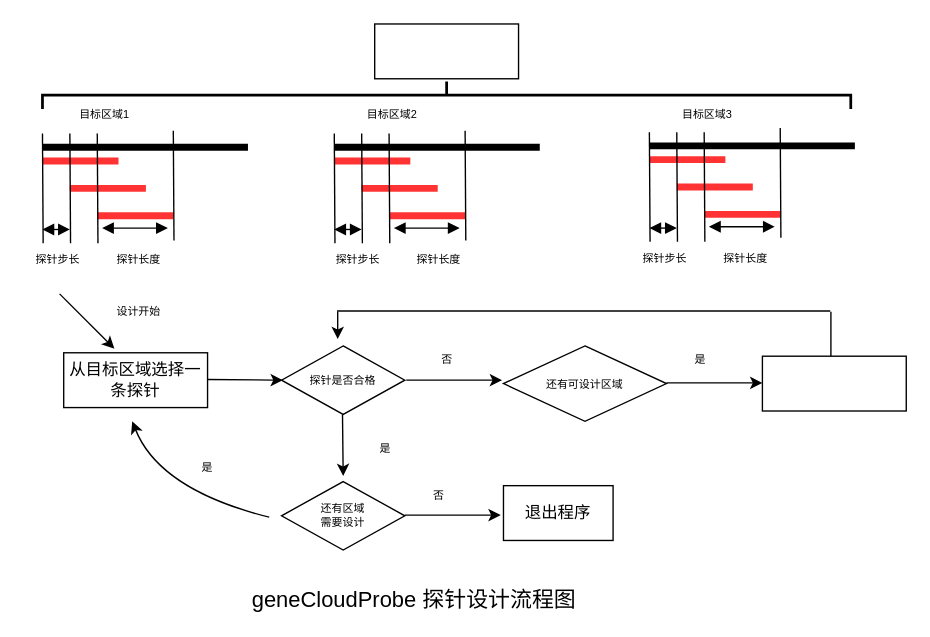
This 930x637 diagram has some shape labels left out. The centre of each missing label's shape, as x and y in pixels:
"从目标区域选择下一条探针" goes at point 833,383.
"输入目标区域" goes at point 446,51.
